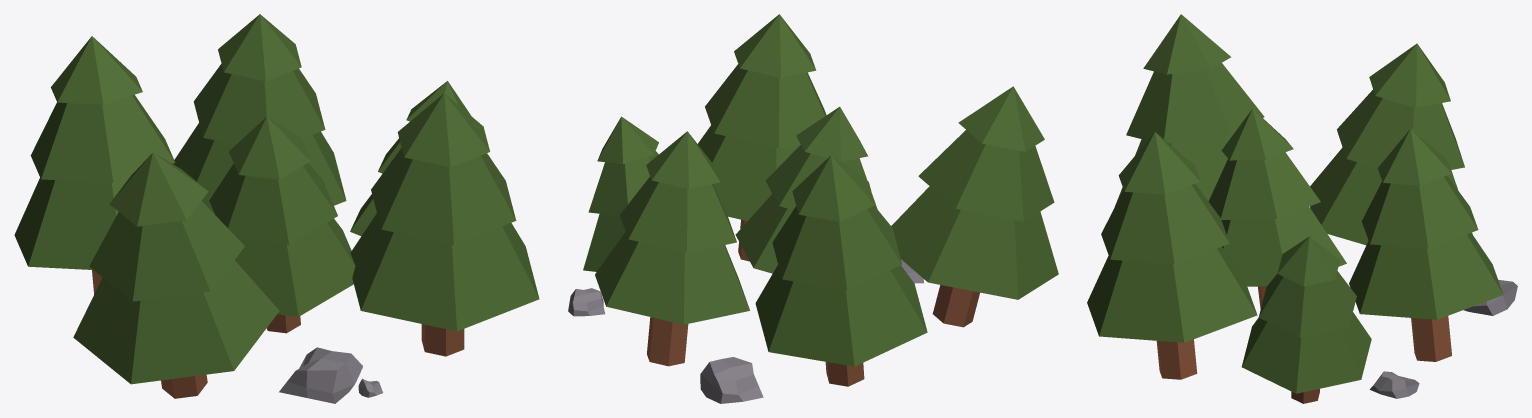
File: Forest.fbx
3 renders of one model, left to right at view 1: azimuth 30°, elevation 25°; view 2: azimuth 150°, elevation 25°; view 3: azimuth 270°, elevation 25°, orthographic. The views are drawn at different scales.
Parts seen in each view (by area): view 1: Forest; view 2: Forest; view 3: Forest.
Part boxes in pixels (x1,y1,x2,y2): Forest: (14,14,539,403); Forest: (568,14,1058,403); Forest: (1087,14,1517,403).
Bounding box in the file's own units: 0.9408 × 0.5474 × 0.8806.
